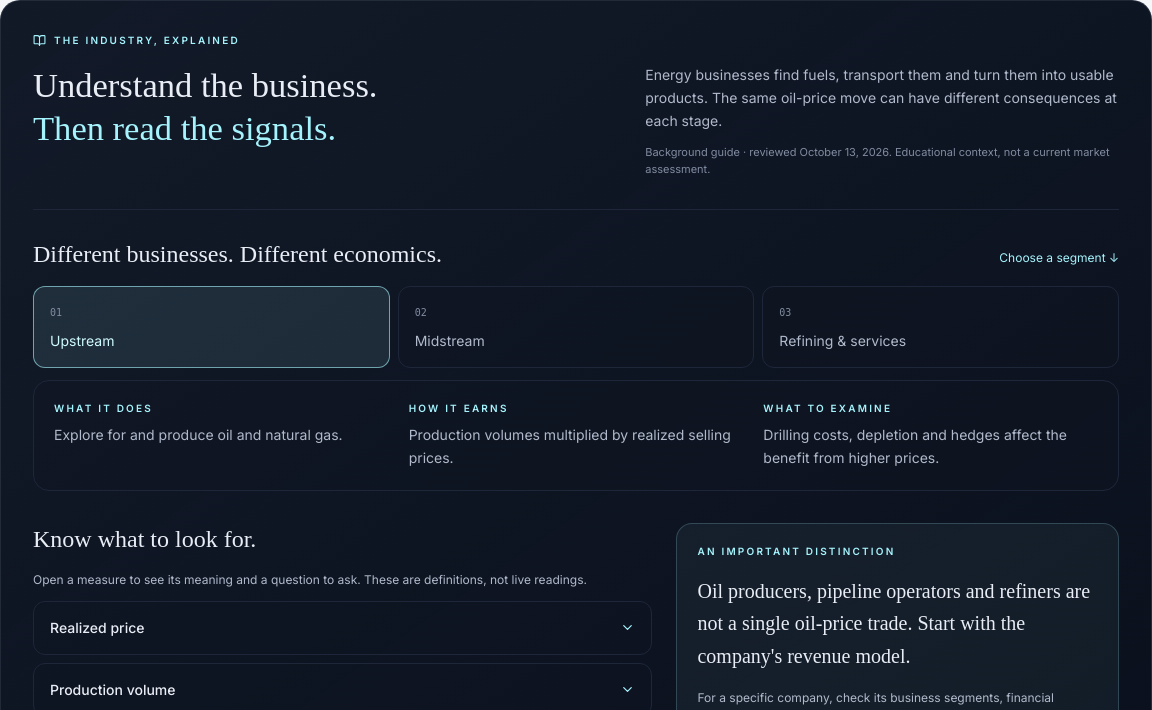
Scenario: provides a usable distinct guide for energy even without reporting
Click the button "02 Midstream" at (450, 341), box [398,286,754,368]
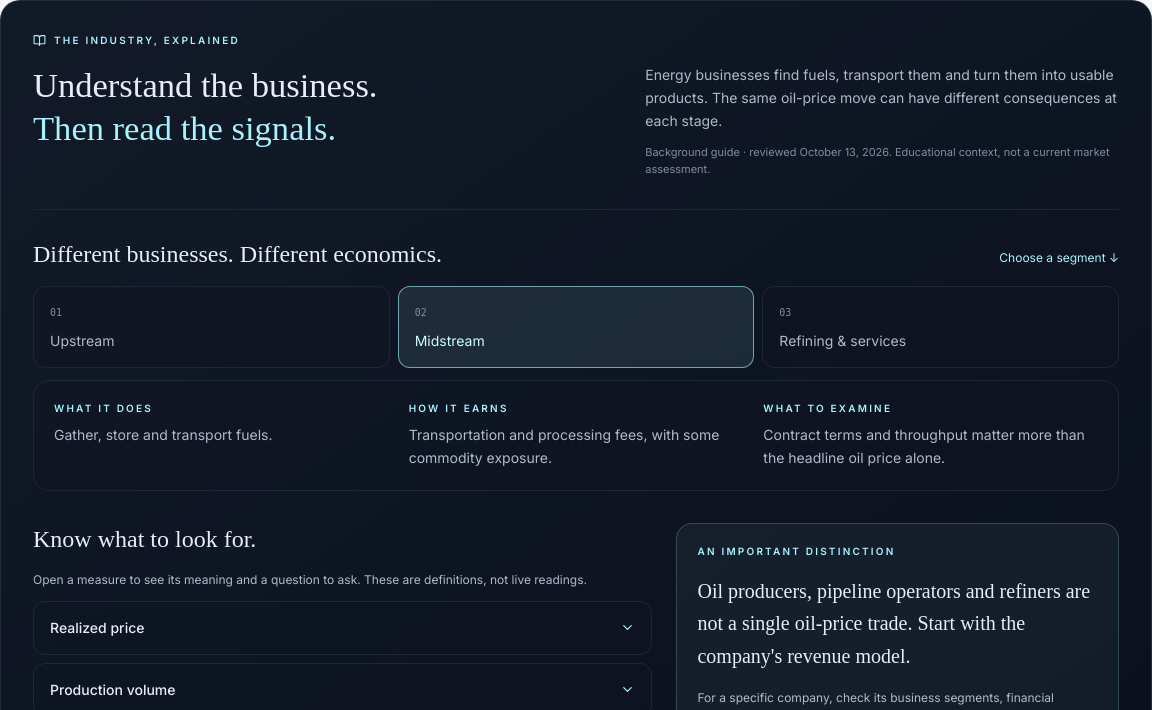
Expected: the text "definitions, not live readings" is shown, [33,572,587,587]
Expected: the text "Transportation and processing fees, with some commodity exposure." is shown, [409,424,743,470]
Expected: the text "Production volumes multiplied by realized selling prices." is gone
